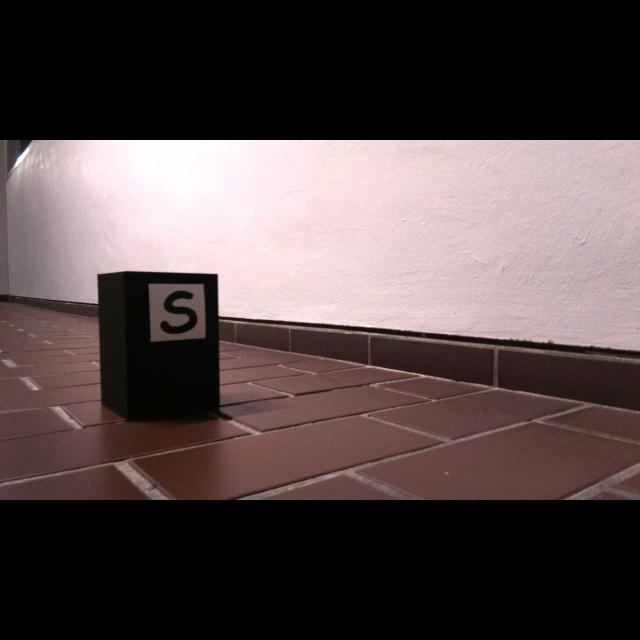S: (161, 289, 196, 334)
